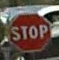stop: (7, 12, 51, 52)
